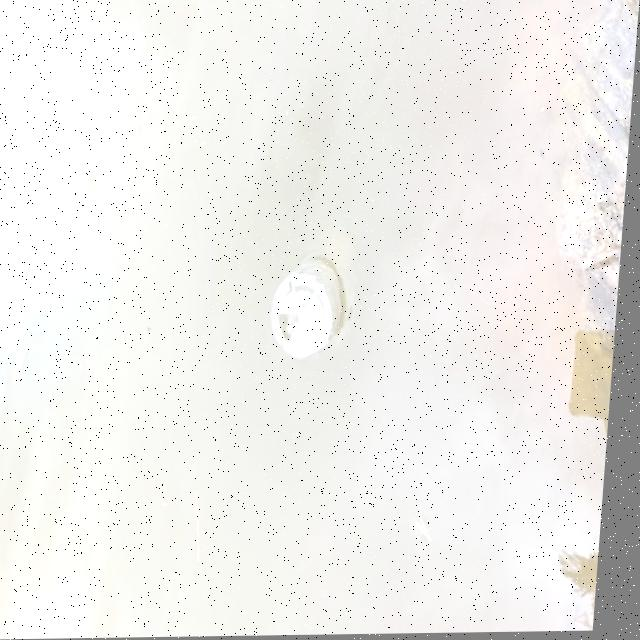leaf: (0, 326, 51, 393)
waterbottle: (259, 194, 383, 361)
